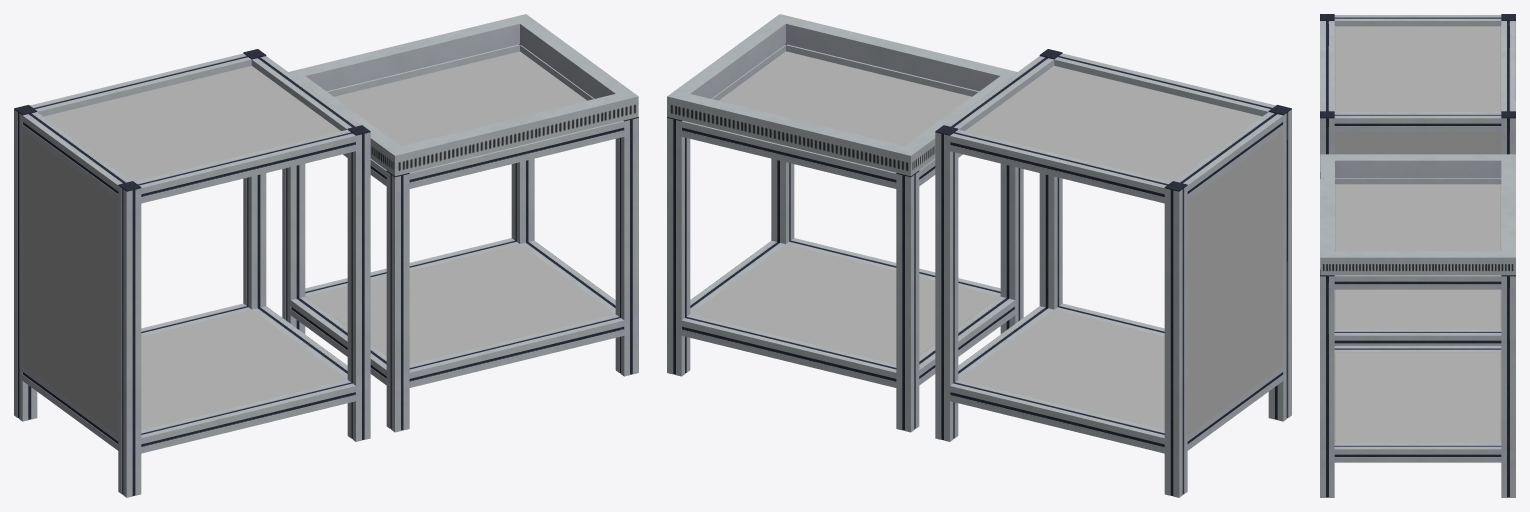
Rendered from zhiwu02.FBX.
The picture shows the model from 3 angles, left to right: view 1: azimuth 30°, elevation 25°; view 2: azimuth 150°, elevation 25°; view 3: azimuth 270°, elevation 25°; orthographic projection. The views are drawn at different scales.
Visible parts, largest first — view 1: YF_Model_zhiwu02_01, YF_Model_zhiwu02_02; view 2: YF_Model_zhiwu02_01, YF_Model_zhiwu02_02; view 3: YF_Model_zhiwu02_02, YF_Model_zhiwu02_01.
Part boxes in pixels (x1,y1,x2,y2): YF_Model_zhiwu02_01: (14,49,370,497); YF_Model_zhiwu02_02: (282,14,638,432); YF_Model_zhiwu02_01: (935,49,1291,497); YF_Model_zhiwu02_02: (667,14,1023,432); YF_Model_zhiwu02_02: (1320,154,1515,497); YF_Model_zhiwu02_01: (1320,14,1515,345).
Size of the model in its own units: 105 by 60.2 by 40.01.
Materials: 1 (1 with a texture image).
